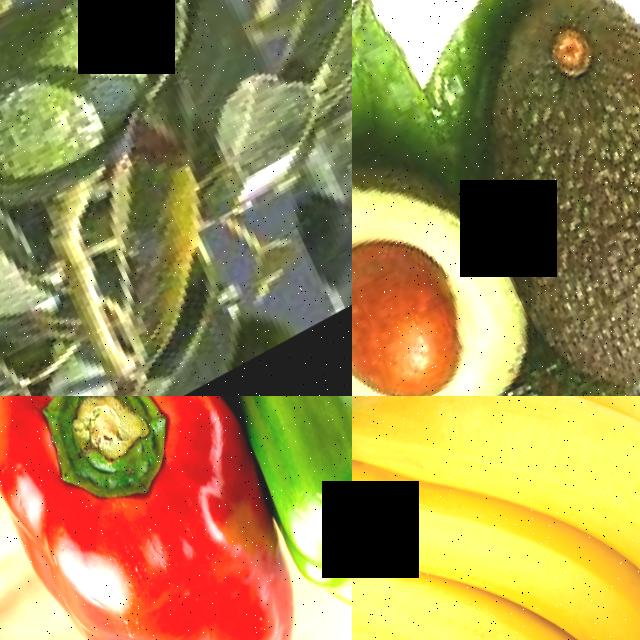avocado: (417, 0, 640, 396), (352, 49, 562, 396), (0, 0, 203, 253), (352, 309, 640, 396)
banana: (352, 396, 640, 640)
bell pepper: (0, 396, 338, 640), (176, 396, 352, 640)
